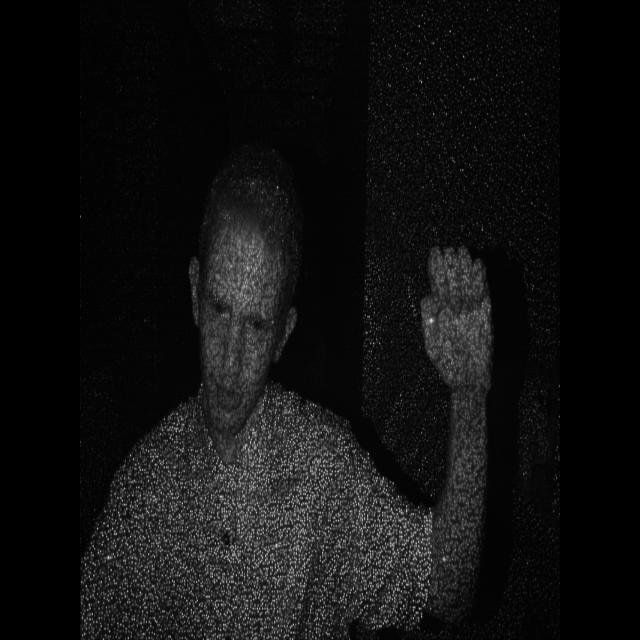M: (410, 218, 506, 400)
